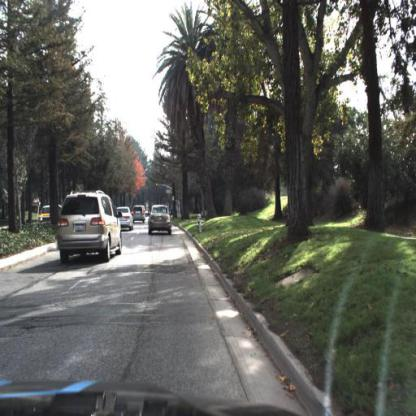car: (54, 187, 128, 270), (147, 202, 177, 243), (38, 202, 62, 224), (117, 207, 134, 230), (132, 205, 147, 224), (134, 205, 146, 224)
